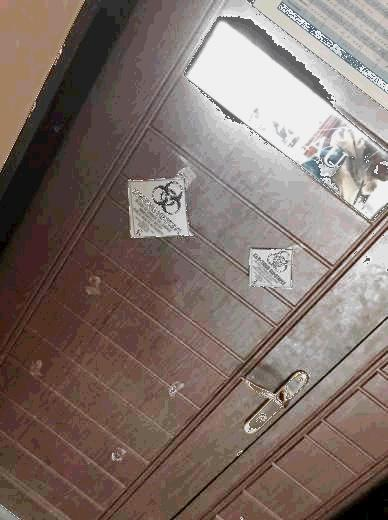infectious-substance: (129, 177, 191, 239), (249, 248, 293, 290)
